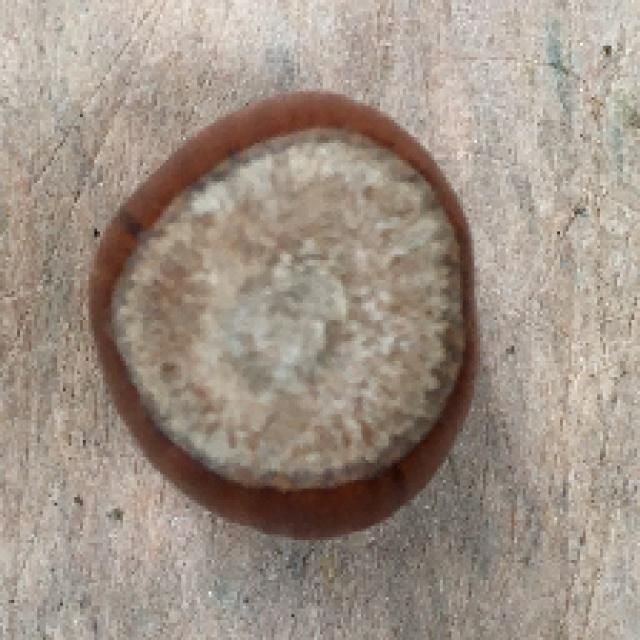QualityHazelnut: (83, 91, 489, 544)
